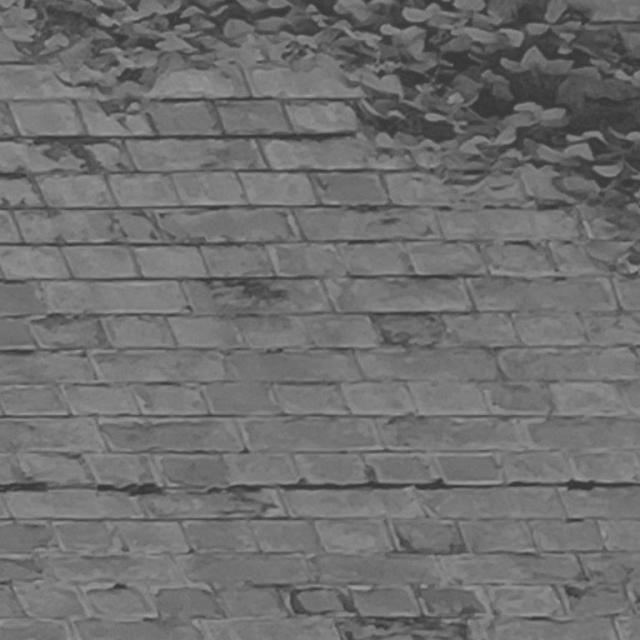crack: (1, 476, 639, 496)
